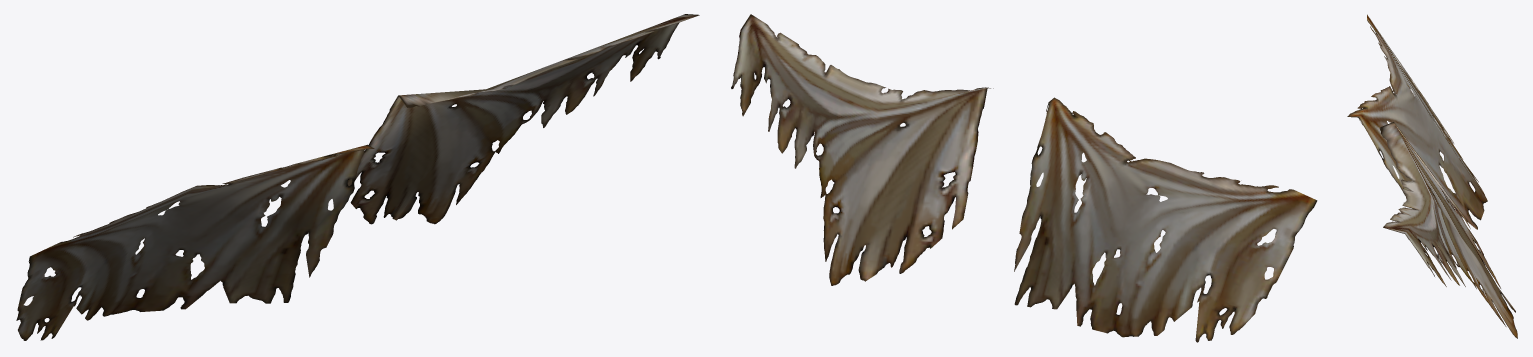
The model's file is 2_YiZhan_Bu_01.FBX.
3 renders of one model, left to right at view 1: azimuth 30°, elevation 25°; view 2: azimuth 150°, elevation 25°; view 3: azimuth 270°, elevation 25°, orthographic. The views are drawn at different scales.
Parts seen in each view (by area): view 1: 2_YiZhan_Bu_02, 2_YiZhan_Bu_01; view 2: 2_YiZhan_Bu_02, 2_YiZhan_Bu_01; view 3: 2_YiZhan_Bu_01, 2_YiZhan_Bu_02.
Part boxes in pixels (box(x1,y1,x2,y2)): 2_YiZhan_Bu_02: box(16, 144, 374, 340); 2_YiZhan_Bu_01: box(347, 14, 699, 224); 2_YiZhan_Bu_02: box(1014, 97, 1317, 342); 2_YiZhan_Bu_01: box(731, 14, 993, 285); 2_YiZhan_Bu_01: box(1380, 122, 1517, 338); 2_YiZhan_Bu_02: box(1347, 14, 1487, 268).
Bounding box in the file's own units: 572 × 187 × 155.
2 materials, 2 textured.
